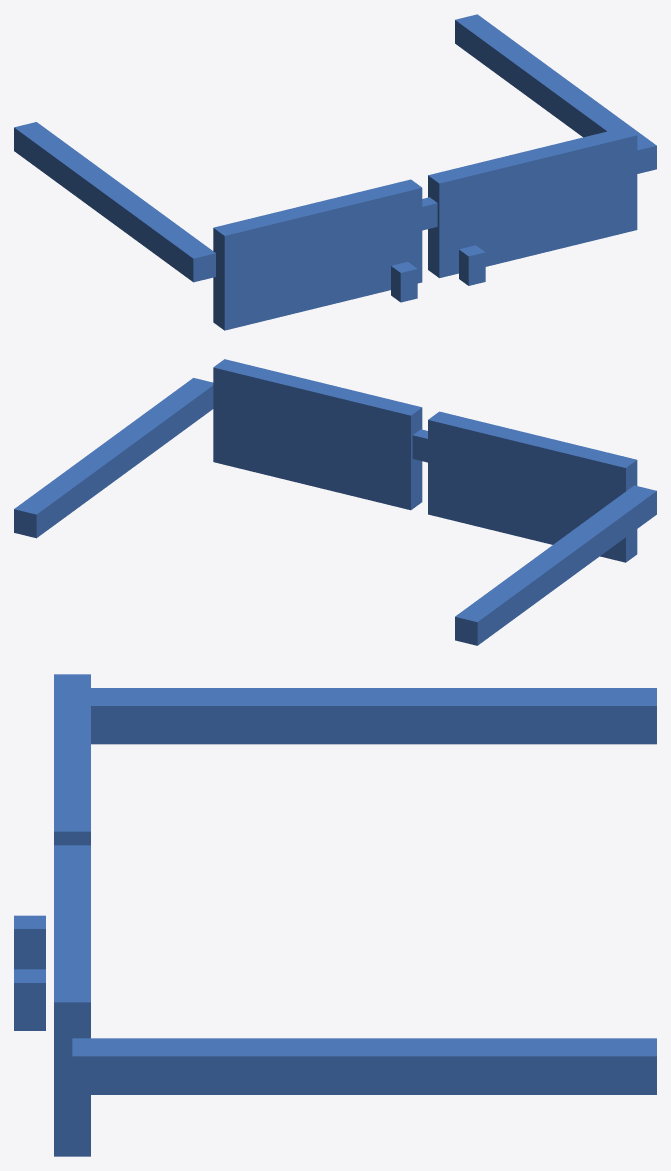
The model's file is sport.glb.
3 renders of one model, top to bottom at view 1: azimuth 30°, elevation 25°; view 2: azimuth 150°, elevation 25°; view 3: azimuth 270°, elevation 25°, orthographic. The views are drawn at different scales.
Parts seen in each view (by area): view 1: sport-blue; view 2: sport-blue; view 3: sport-blue.
Part boxes in pixels (x1,y1,x2,y2): sport-blue: [14, 14, 656, 330]; sport-blue: [14, 359, 656, 645]; sport-blue: [14, 674, 656, 1156].
Bounding box in the file's own units: 1.64 × 0.33 × 1.21.
